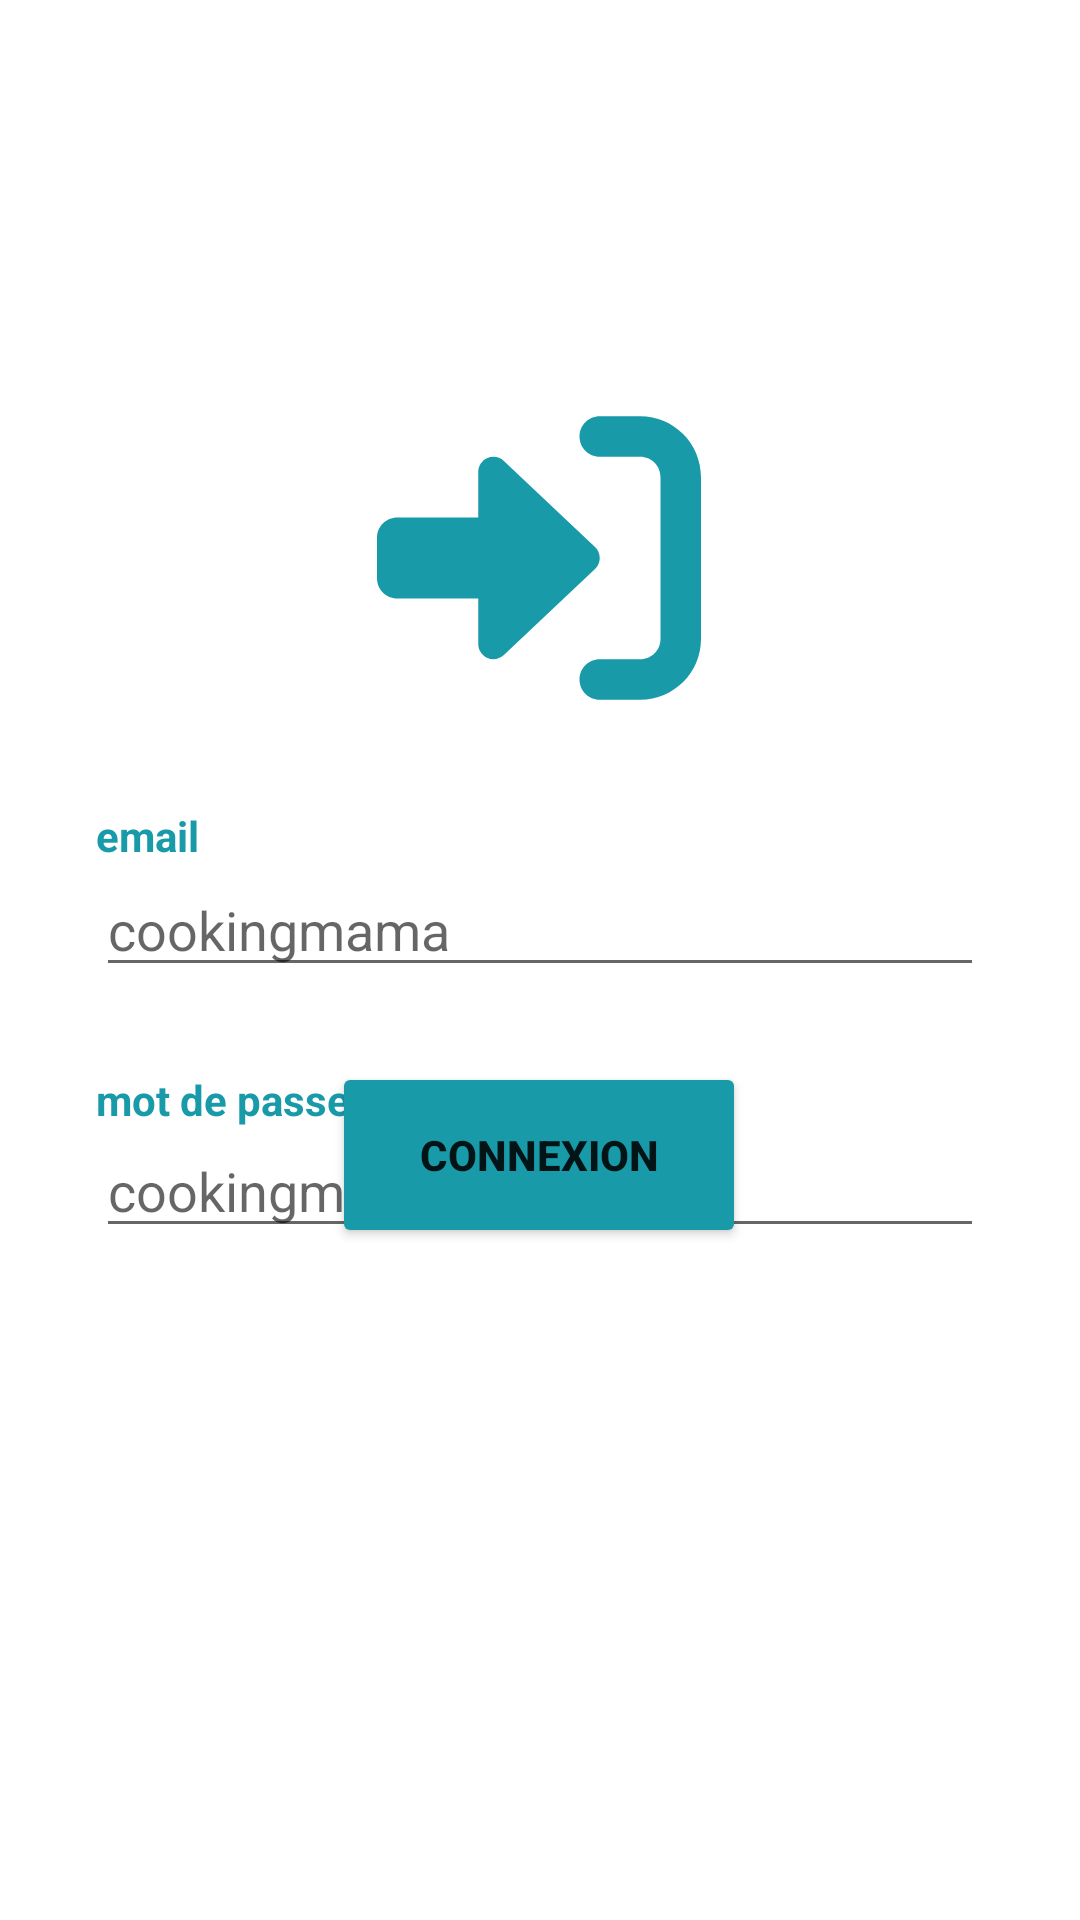

Icon click points for this 1080×1920 phone screenshot, format point (x, y):
right to bracket: point (539, 558)
